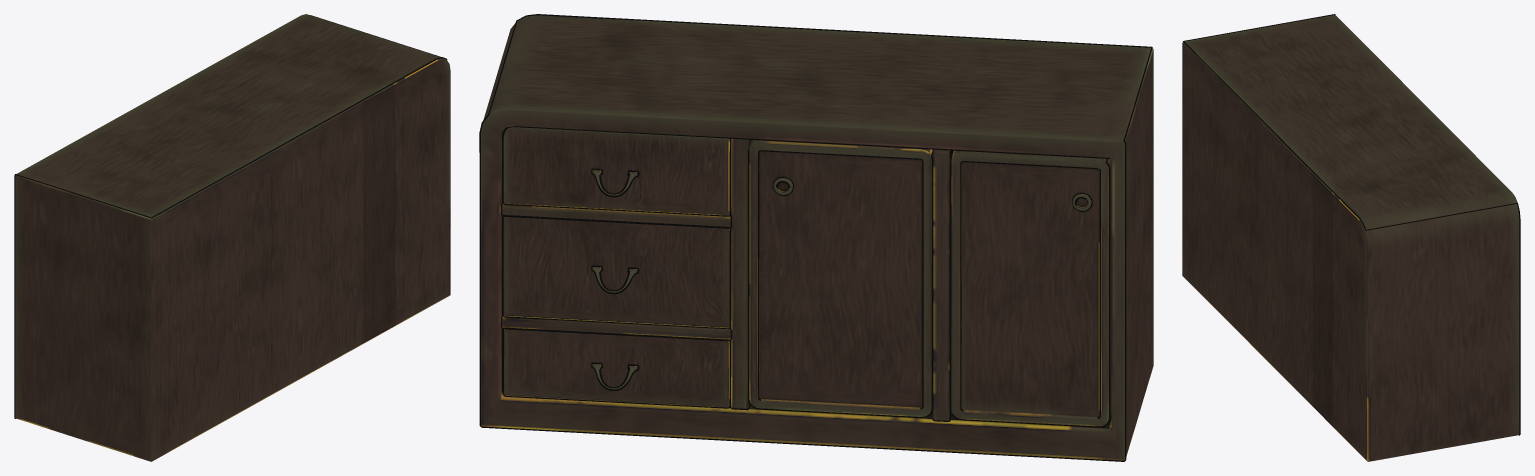
The model's file is sideboard_002.glb.
3 views of the same model, side by side, from view 1: azimuth 30°, elevation 25°; view 2: azimuth 150°, elevation 25°; view 3: azimuth 270°, elevation 25° (orthographic). The views are drawn at different scales.
Parts seen in each view (by area): view 1: Cube.014, LineArt; view 2: Cube.014, Cube.017, Cube.016, Cube.019, Cube.020, LineArt, Cube.018; view 3: Cube.014, LineArt.
Part boxes in pixels (box(x1,y1,x2,y2)): Cube.014: box(15, 14, 450, 461); LineArt: box(14, 15, 447, 418); Cube.014: box(481, 15, 1153, 460); Cube.017: box(749, 140, 932, 416); Cube.016: box(951, 150, 1111, 426); Cube.019: box(503, 217, 729, 328); Cube.020: box(503, 127, 729, 215); LineArt: box(479, 14, 1152, 461); Cube.018: box(504, 329, 729, 407); Cube.014: box(1182, 15, 1519, 461); LineArt: box(1183, 14, 1520, 435).
Size of the model in its own units: 1.39 by 0.7151 by 0.9275.
Materials: 2 (1 with a texture image).
